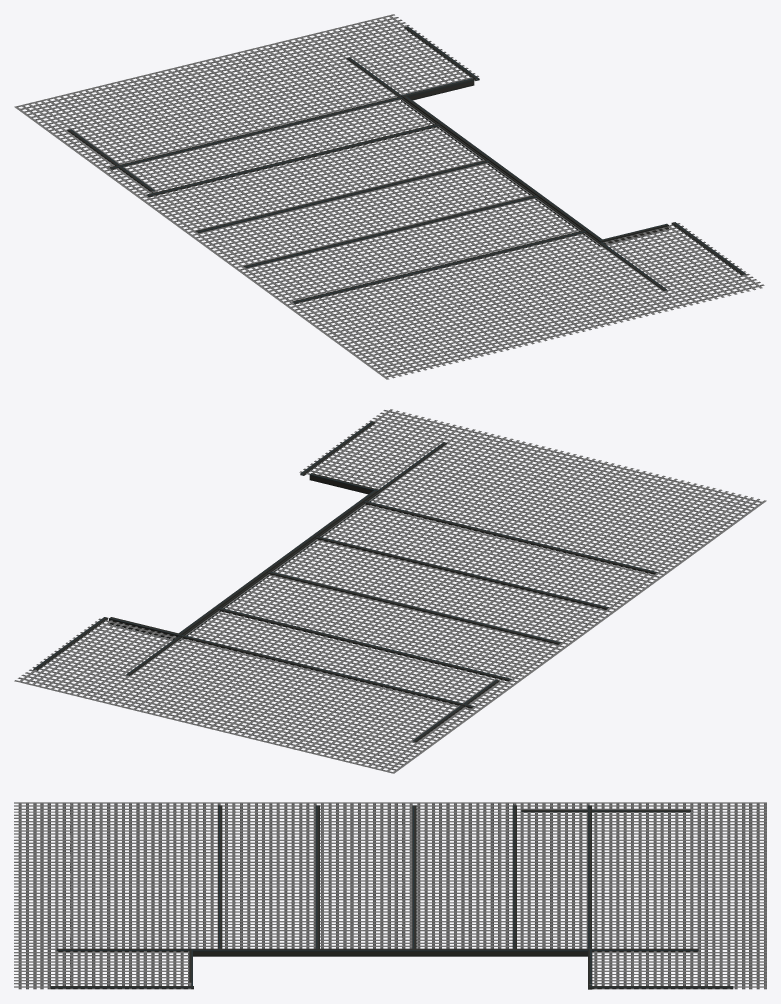
The model's file is mdlCabinGrateFloor.fbx.
3 views of the same model, one above another, from view 1: azimuth 30°, elevation 25°; view 2: azimuth 150°, elevation 25°; view 3: azimuth 270°, elevation 25° (orthographic).
Visible parts, largest first — view 1: Grid; view 2: Grid; view 3: Grid.
Boxes of the visible parts, x1,y1,x2,y2 form: Grid: (14, 14, 764, 379); Grid: (14, 409, 766, 773); Grid: (14, 802, 766, 989).
Bounding box in the file's own units: 5017 × 71.7 × 8528.
